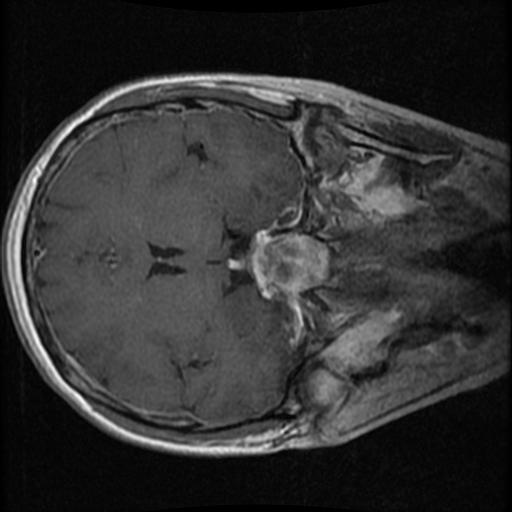pituitary tumour: (245, 230, 280, 303)
